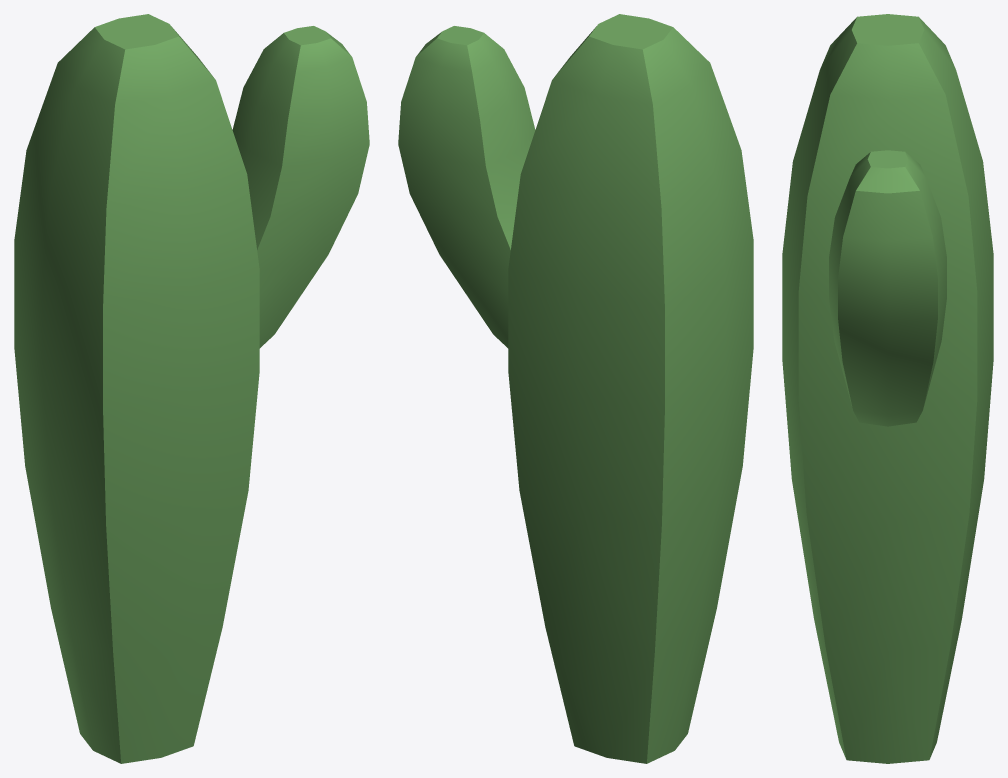
The model's file is Cactus1.fbx.
The picture shows the model from 3 angles, left to right: view 1: azimuth 30°, elevation 25°; view 2: azimuth 150°, elevation 25°; view 3: azimuth 270°, elevation 25°; orthographic projection.
Visible parts, largest first — view 1: Cactus; view 2: Cactus; view 3: Cactus.
Part boxes in pixels (left/top/right/bottom): Cactus: left=14, top=14, right=369, bottom=763; Cactus: left=398, top=14, right=753, bottom=763; Cactus: left=782, top=14, right=993, bottom=763.
Bounding box in the file's own units: 1.52 × 3.3 × 0.8876.
